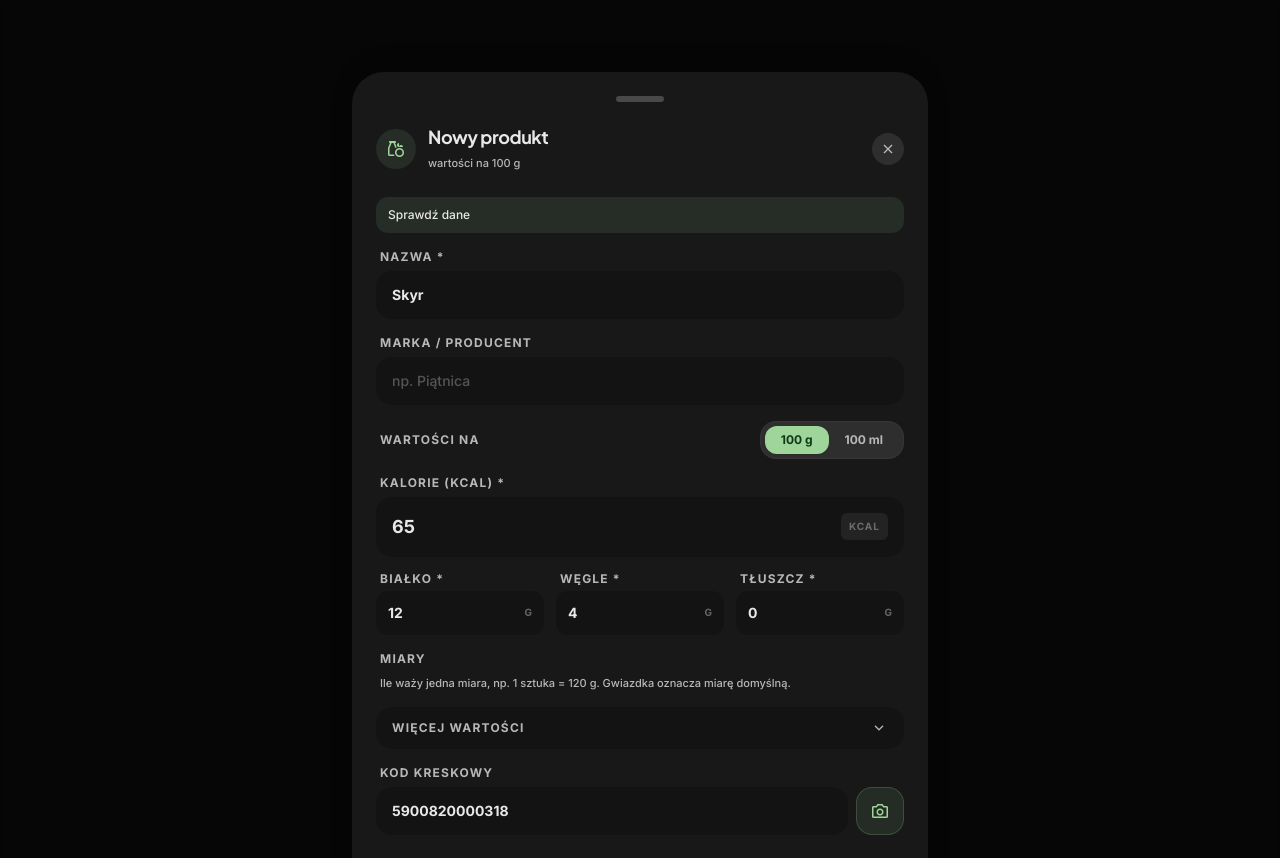
Test: NewProductSheet › hides the scan message once the code is changed
Replace the text in the field labelled "Kod kreskowy" with "5900820000325" at [612, 811], box [376,787,848,835]
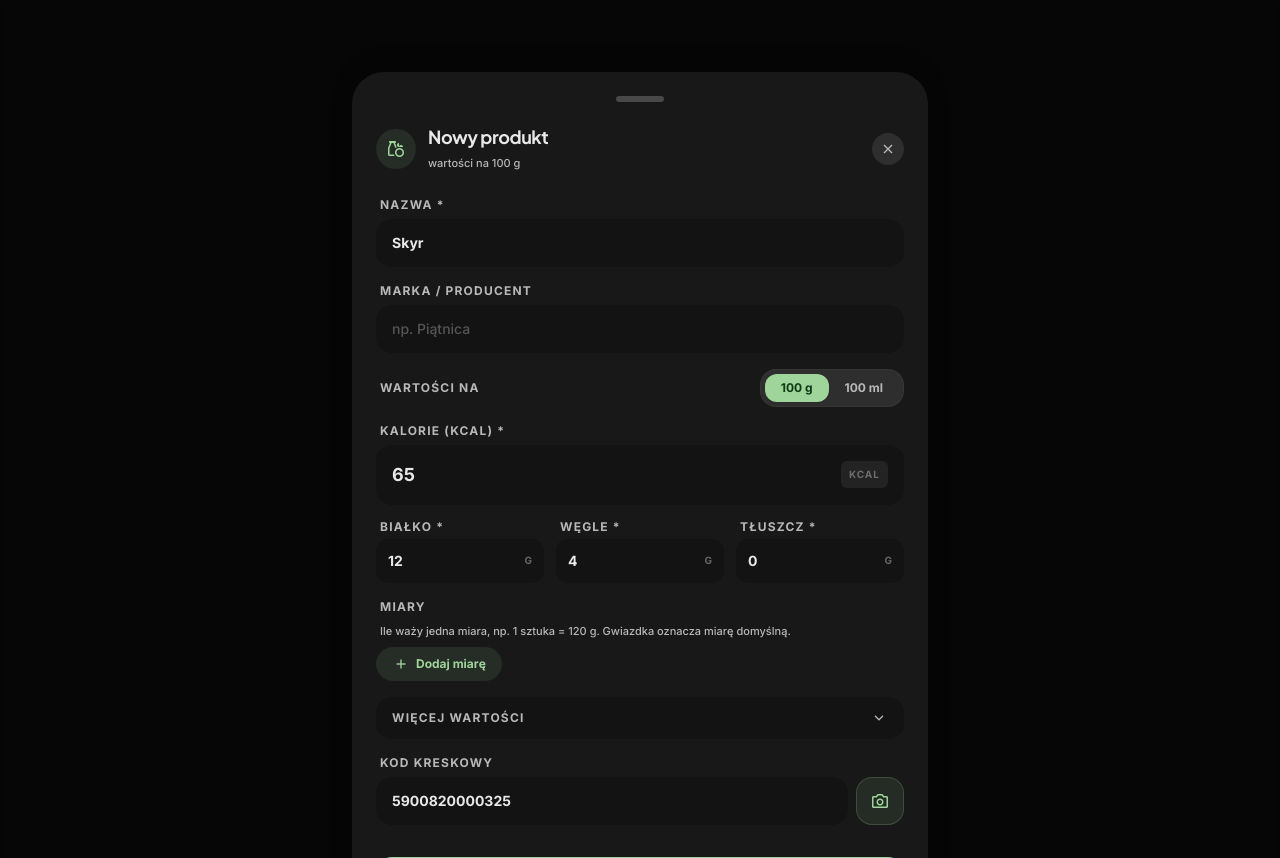
Now the text "Sprawdź dane" is gone
